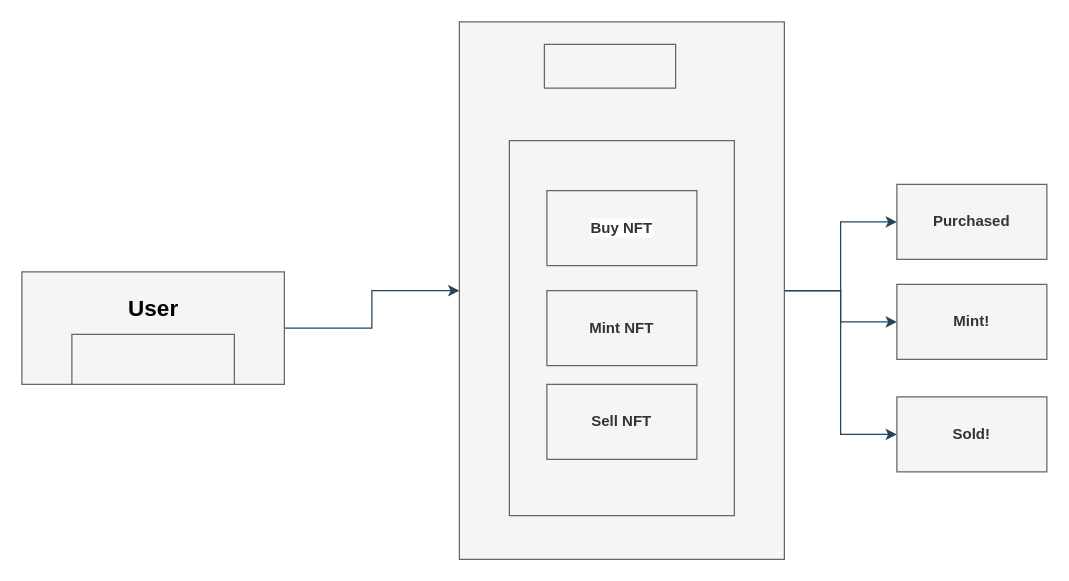
The diagram is 1069 pixels wide and 581 high, and some of its shapes have lost their labels. Here are the shapes that lost their labels. From the top down, the box of each, then its label:
(543, 43, 676, 88): NFTForge
(71, 333, 234, 384): Naavy Tokens
